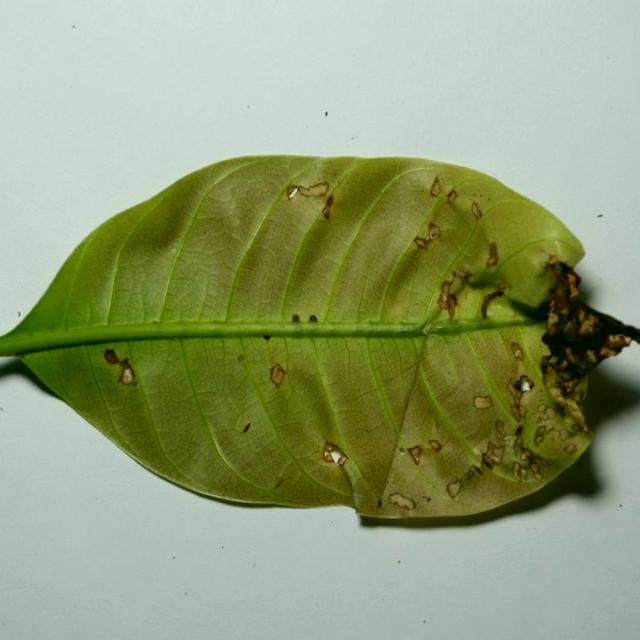Anthracnose: (405, 436, 442, 472), (103, 348, 137, 387), (480, 286, 506, 319), (290, 181, 329, 200), (321, 444, 350, 469), (415, 225, 440, 251), (482, 440, 503, 466), (388, 493, 416, 511), (521, 458, 543, 480), (269, 363, 286, 388), (513, 375, 534, 394), (446, 479, 462, 499), (406, 446, 422, 466), (472, 395, 493, 409), (104, 349, 120, 365), (510, 342, 524, 360), (471, 201, 482, 222), (430, 176, 441, 197), (414, 237, 428, 249), (429, 440, 442, 452), (287, 187, 299, 200)
Mango: (0, 156, 639, 531)
